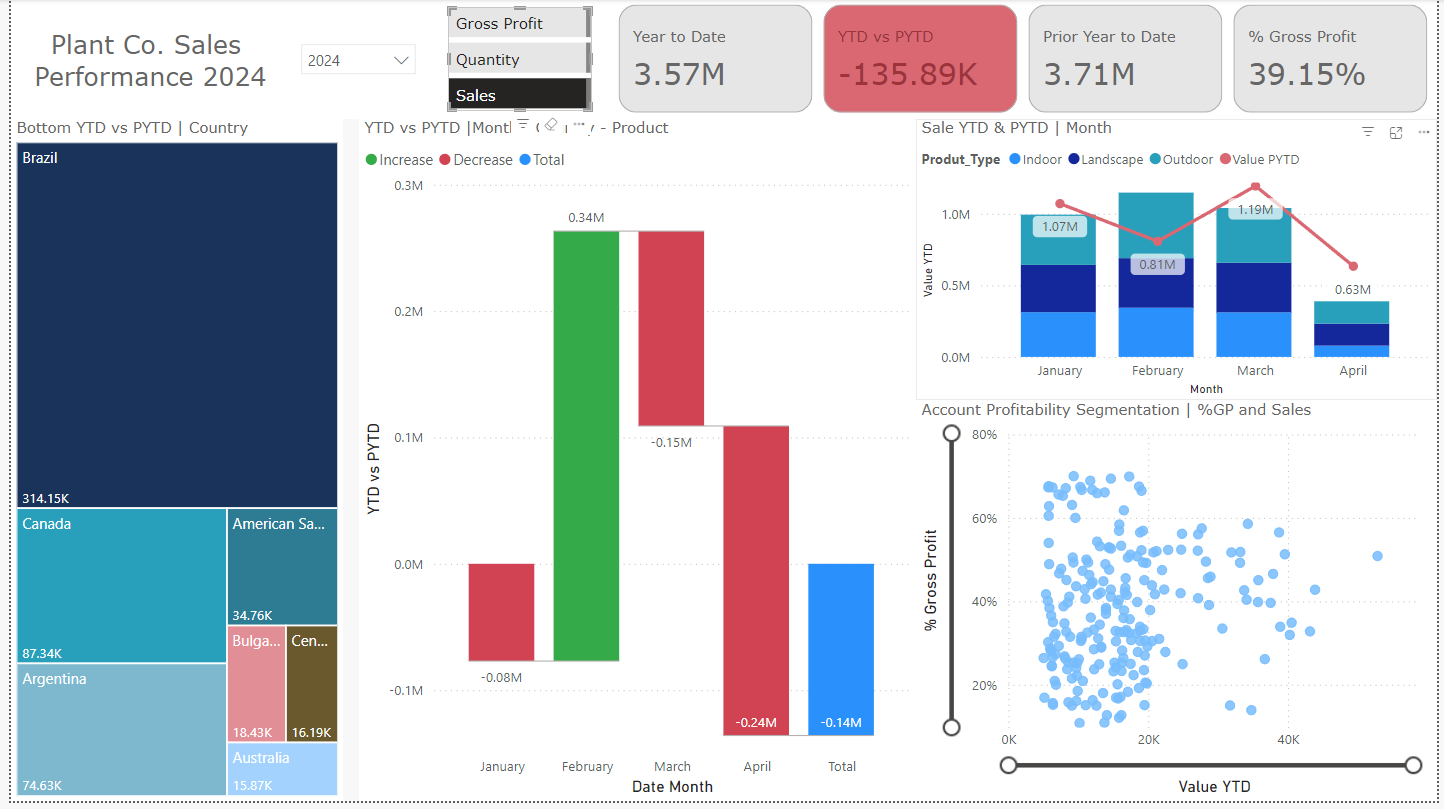

Layout of this report page (visuals, bound fields, positions):
{"tool":"powerbi","page":{"name":"Report","canvas":[1280,720],"ordinal":0},"visuals":[{"type":"textbox","title":"Plant Co. Sales Performance","box":[0,23.3,286.2,84.3],"z":0},{"type":"shape","box":[0,0,1280,107.8],"z":1000},{"type":"advancedSlicerVisual","fields":{"Values":["Slc_Values.Values"]},"box":[392.2,7.5,129,92.7],"z":2000},{"type":"slicer","fields":{"Values":["dim_date.Date.Variation.Date Hierarchy.Year"]},"box":[250.5,30.9,122.6,46.9],"z":3000},{"type":"card","fields":{"Values":["Measure._Title"]},"box":[0,0,250.5,107.6],"z":4000},{"type":"cardVisual","fields":{"Data":["Measure.S_YTD","Measure.YTD vs PYTD","Measure.S_PYTD","Measure.% Gross Profit"]},"box":[540.3,0,739.7,107.6],"z":5000},{"type":"treemap","title":"Bottom YTD vs PYTD | Country","fields":{"Values":["Measure.Year to Date_Sales"],"Group":["Dim_Account.country2"]},"box":[0,107.6,298.4,612.8],"z":6000},{"type":"textbox","box":[0,125.8,276,35.2],"z":7000},{"type":"waterfallChart","title":"YTD vs PYTD |Month - Country - Product","fields":{"Y":["Measure.YTD vs PYTD"],"Category":["dim_date.Date.Variation.Date Hierarchy.Month","Dim_Account.country2","Dim_Product.Produt_Type","Dim_Product.Product_Name"]},"box":[312.3,107.6,499.9,612.8],"z":8000},{"type":"lineStackedColumnComboChart","title":"Sale YTD & PYTD | Month","fields":{"Category":["dim_date.Date.Variation.Date Hierarchy.Month"],"Y":["Measure.S_YTD"],"Y2":["Measure.S_PYTD"],"Series":["Dim_Product.Produt_Type"]},"box":[812.1,107.6,467.9,252.6],"z":9000},{"type":"scatterChart","title":"Account Profitability Segmentation | %GP and Sales","fields":{"Category":["Dim_Account.Account"],"X":["Measure.S_YTD"],"Y":["Measure.% Gross Profit"]},"box":[812.1,361.3,467.9,359.2],"z":10000}]}

Visuals, with their boxes on the page's 1280x720 design canvas (x1, y1, x2, y2). These are canvas units, not pixel positions in the 1444x809 screenshot, which may show the page scaled, cropped or inside an application window:
"Plant Co. Sales Performance" textbox: l=0, t=23, r=286, b=108
shape: l=0, t=0, r=1280, b=108
advancedSlicerVisual - Slc_Values.Values: l=392, t=8, r=521, b=100
slicer - dim_date.Date.Variation.Date Hierarchy.Year: l=250, t=31, r=373, b=78
card - Measure._Title: l=0, t=0, r=250, b=108
cardVisual - Measure.S_YTD x Measure.YTD vs PYTD: l=540, t=0, r=1280, b=108
"Bottom YTD vs PYTD | Country" treemap: l=0, t=108, r=298, b=720
textbox: l=0, t=126, r=276, b=161
"YTD vs PYTD |Month - Country - Product" waterfallChart: l=312, t=108, r=812, b=720
"Sale YTD & PYTD | Month" lineStackedColumnComboChart: l=812, t=108, r=1280, b=360
"Account Profitability Segmentation | %GP and Sales" scatterChart: l=812, t=361, r=1280, b=720
